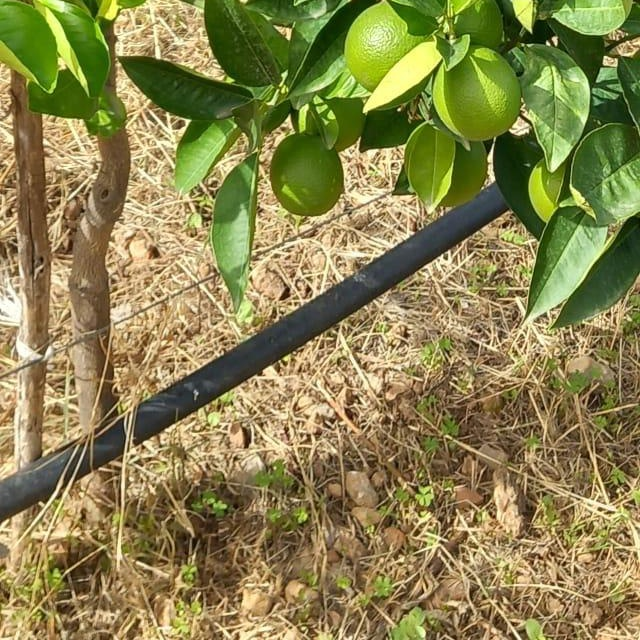orange: (334, 0, 456, 92), (259, 111, 351, 229), (429, 46, 529, 144)
